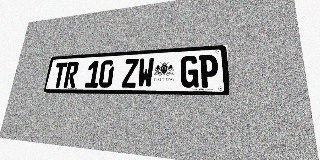0: (98, 60, 115, 88)
1: (85, 61, 101, 88)
G: (180, 55, 198, 88)
P: (199, 54, 219, 88)
R: (63, 62, 79, 88)
T: (52, 62, 68, 88)
W: (137, 58, 154, 88)
Z: (122, 58, 139, 88)
